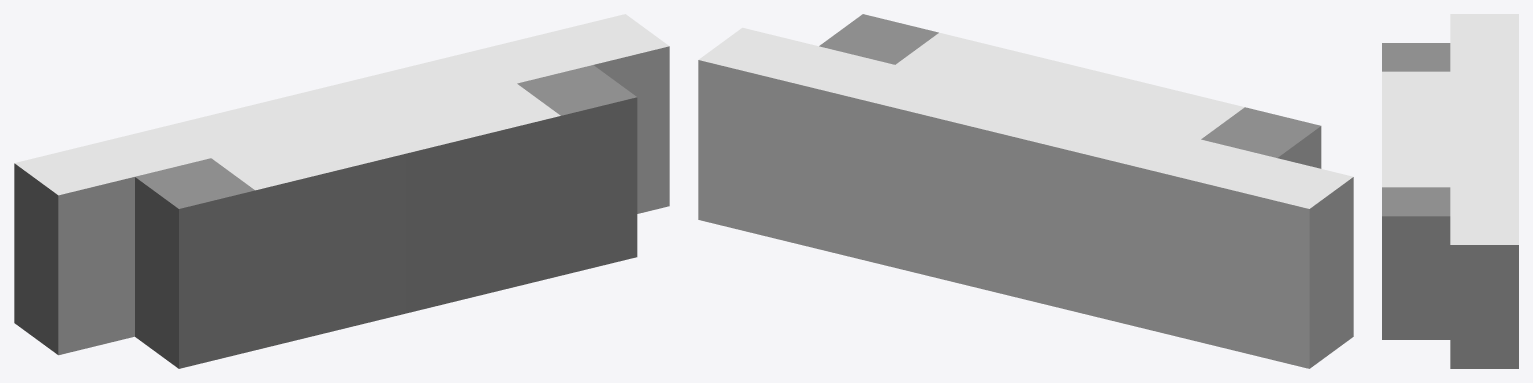
The model's file is Puck.glb.
3 renders of one model, left to right at view 1: azimuth 30°, elevation 25°; view 2: azimuth 150°, elevation 25°; view 3: azimuth 270°, elevation 25°, orthographic. The views are drawn at different scales.
Parts seen in each view (by area): view 1: Puck; view 2: Puck; view 3: Puck.
Boxes of the visible parts, left/top/right/bottom form: Puck: left=14, top=14, right=669, bottom=368; Puck: left=698, top=14, right=1353, bottom=368; Puck: left=1382, top=14, right=1518, bottom=368.
Bounding box in the file's own units: 0.8 × 0.2 × 0.2.
1 material, 1 textured.
